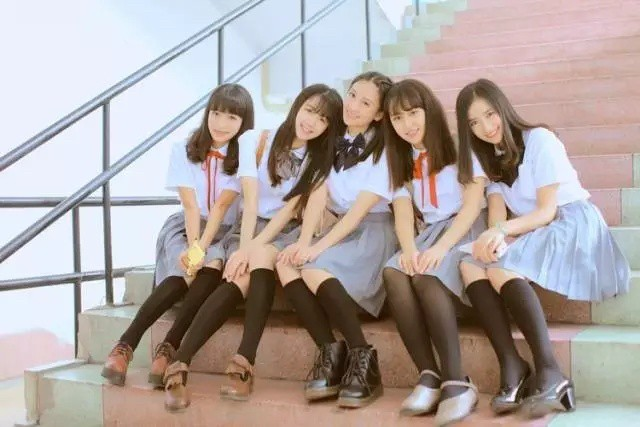people: (461, 71, 585, 427), (173, 74, 250, 371), (385, 74, 452, 405), (260, 82, 334, 364), (332, 62, 391, 413)
